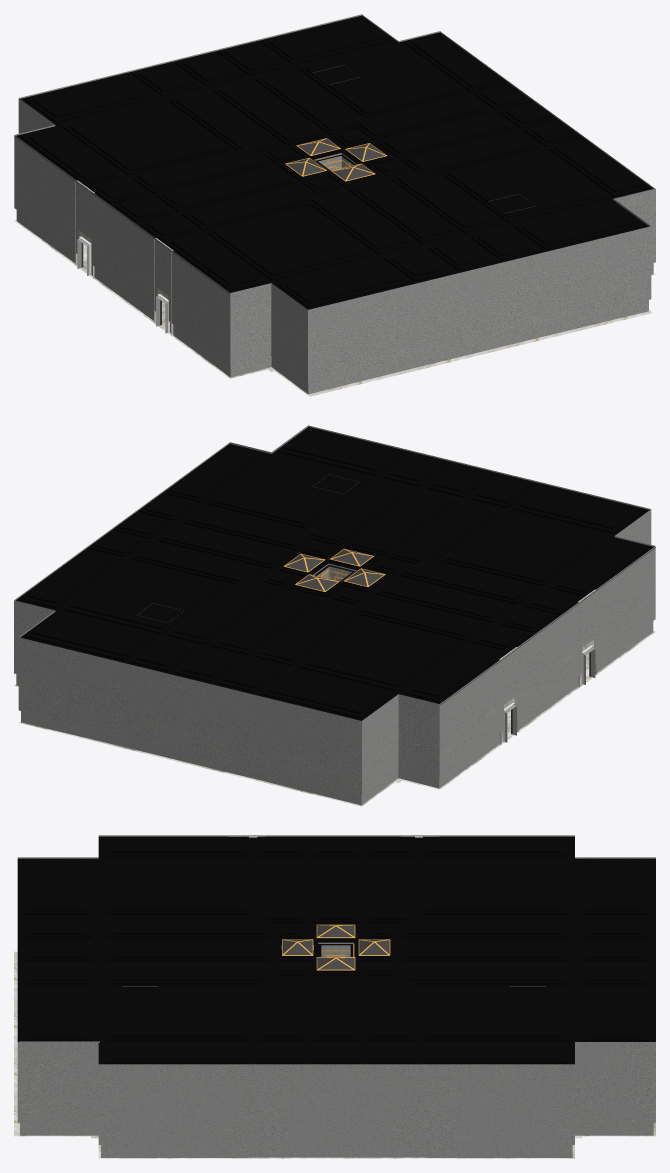
The model's file is MeshBaker (2)-mesh-mesh.fbx.
3 renders of one model, top to bottom at view 1: azimuth 30°, elevation 25°; view 2: azimuth 150°, elevation 25°; view 3: azimuth 270°, elevation 25°, orthographic. The views are drawn at different scales.
Parts seen in each view (by area): view 1: MeshBaker__2__mesh_mesh; view 2: MeshBaker__2__mesh_mesh; view 3: MeshBaker__2__mesh_mesh.
Part boxes in pixels (bbox=[...]): MeshBaker__2__mesh_mesh: bbox=[14, 14, 655, 396]; MeshBaker__2__mesh_mesh: bbox=[14, 425, 655, 806]; MeshBaker__2__mesh_mesh: bbox=[14, 835, 655, 1158].
Size of the model in its own units: 8116 by 1710 by 9560.
